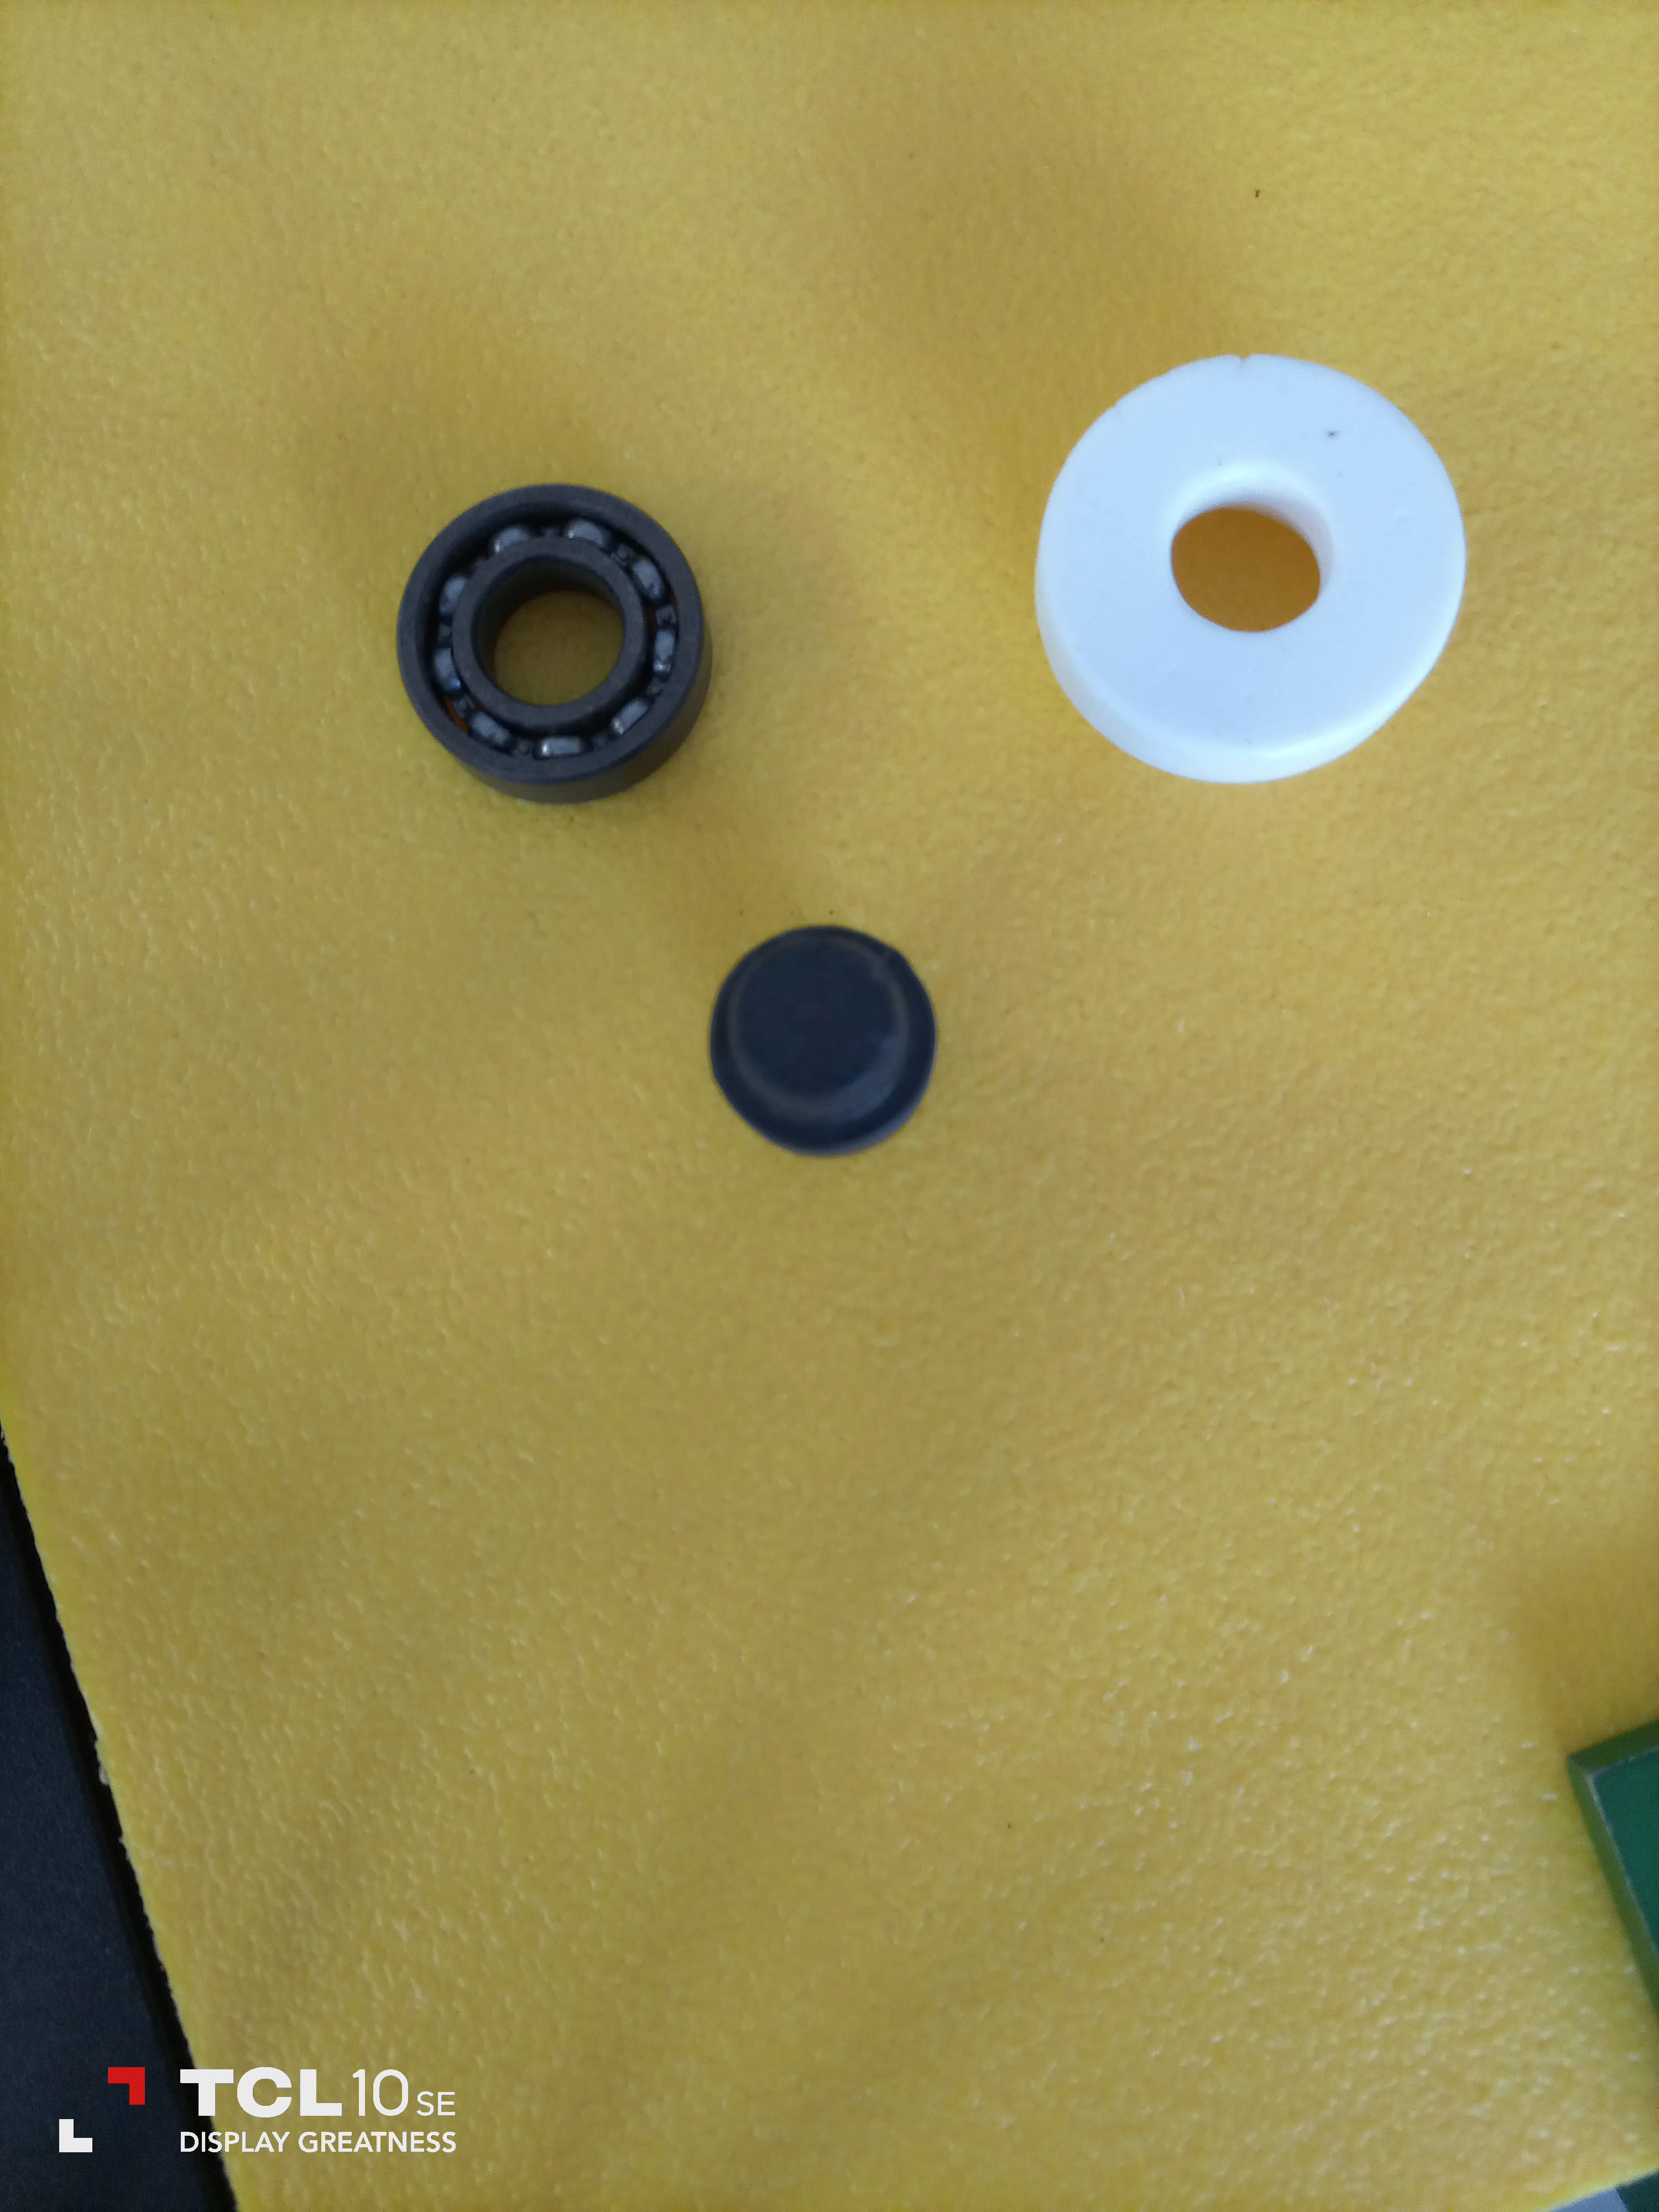Ardatza: (708, 925, 951, 1146)
Roda: (401, 475, 721, 796)
Tapa: (1032, 357, 1464, 766)
